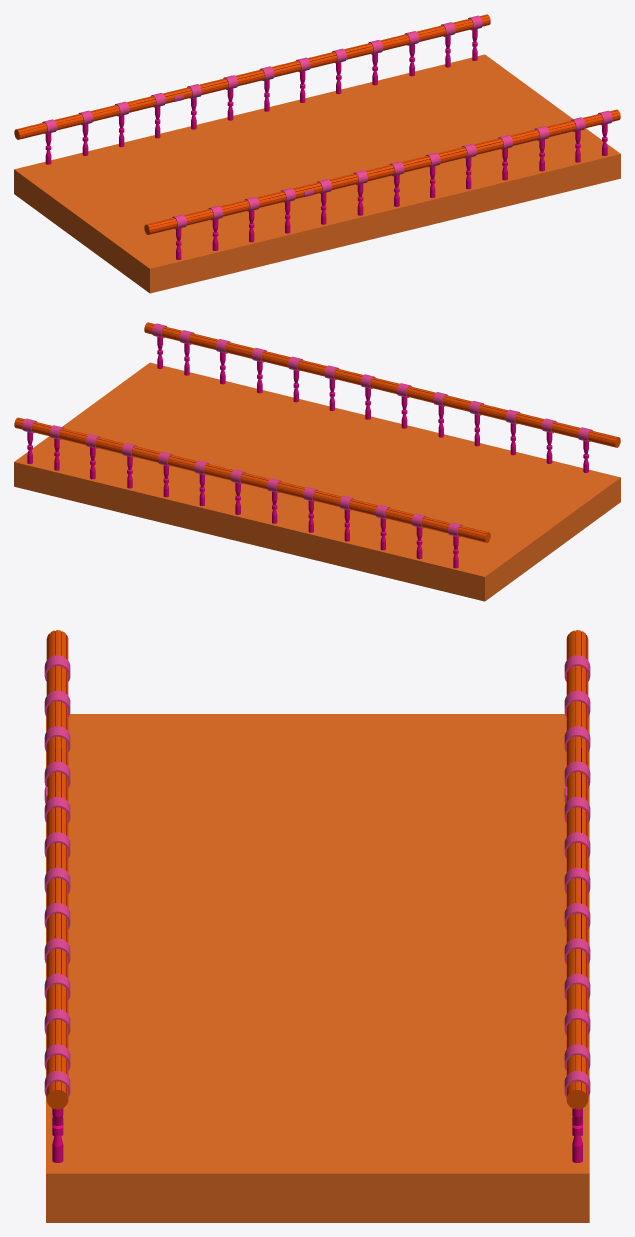
Rendered from tile1.fbx.
3 renders of one model, top to bottom at view 1: azimuth 30°, elevation 25°; view 2: azimuth 150°, elevation 25°; view 3: azimuth 270°, elevation 25°, orthographic. The views are drawn at different scales.
Visible parts, largest first — view 1: tile1; view 2: tile1; view 3: tile1.
Boxes of the visible parts, x1,y1,x2,y2 form: tile1: (14, 14, 620, 293); tile1: (14, 322, 620, 601); tile1: (44, 630, 590, 1222).
Size of the model in its own units: 2000 by 274 by 1003.
